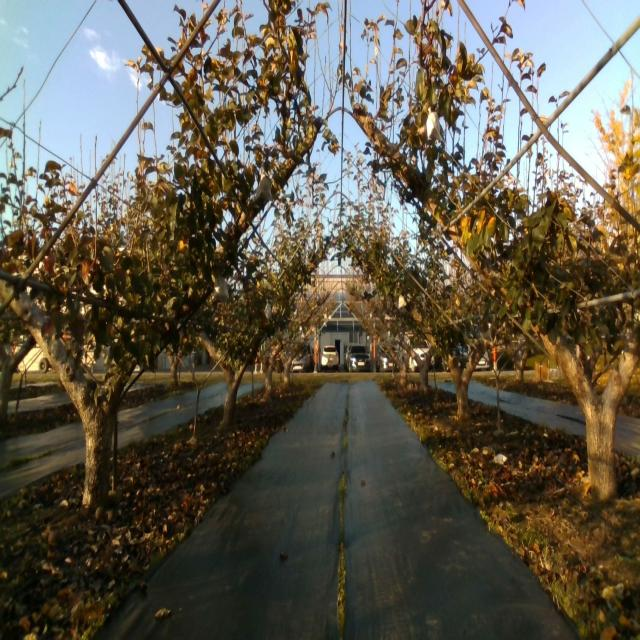pearbags: (426, 107, 441, 141), (255, 173, 272, 203), (212, 276, 230, 299)
